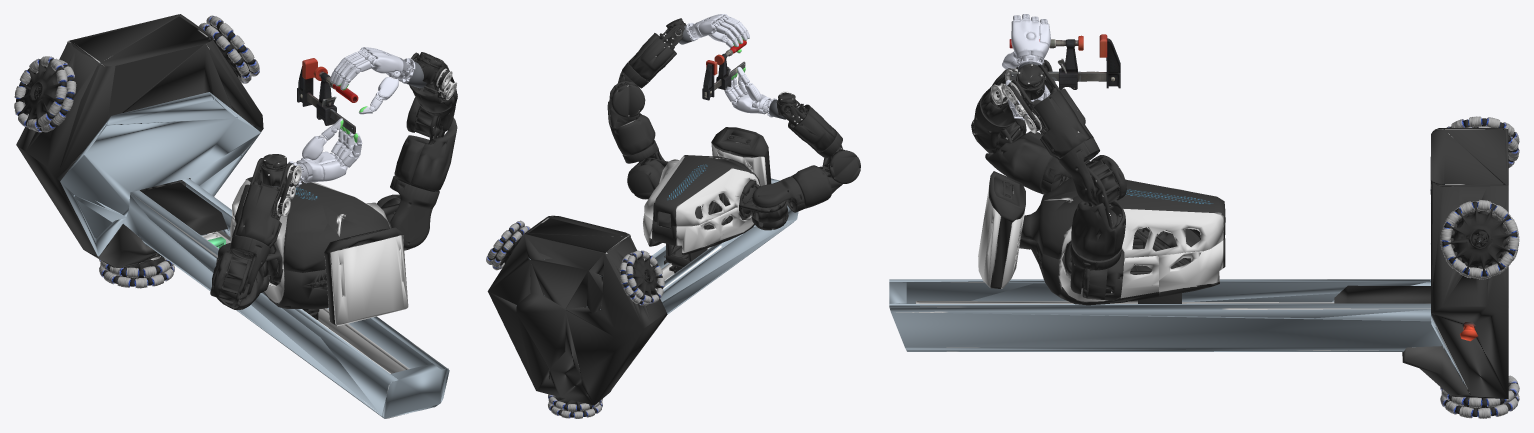
File: clamp-workcell.glb
The picture shows the model from 3 angles, left to right: view 1: azimuth 30°, elevation 25°; view 2: azimuth 150°, elevation 25°; view 3: azimuth 270°, elevation 25°; orthographic projection. The views are drawn at different scales.
Parts seen in each view (by area): view 1: base_link_visual_0_base_link.001, body_link_visual_0_body_link.001, wheel2_wheel_link_visual_0_wheel2_wheel_link.001, armR3_link_visual_0_armR3_link.001, armL5_link_visual_0_armL5_link.001, armR2_link_visual_0_armR2_link.001, armL3_link_visual_0_armL3_link.001, wheel1_wheel_link_visual_0_wheel1_wheel_link.001, wheel3_wheel_link_visual_0_wheel3_wheel_link.001, armR5_link_visual_0_armR5_link.001, armL4_link_visual_0_armL4_link.001, armL6_link_visual_0_armL6_link.001 (+7 smaller); view 2: base_link_visual_0_base_link.001, body_link_visual_0_body_link.001, armR3_link_visual_0_armR3_link.001, armL3_link_visual_0_armL3_link.001, wheel2_wheel_link_visual_0_wheel2_wheel_link.001, armL5_link_visual_0_armL5_link.001, armR5_link_visual_0_armR5_link.001, armL1_link_visual_0_armL1_link.001, armL2_link_visual_0_armL2_link.001, armR1_link_visual_0_armR1_link.001, wheel1_wheel_link_visual_0_wheel1_wheel_link.001, wheel3_wheel_link_visual_0_wheel3_wheel_link.001 (+5 smaller); view 3: base_link_visual_0_base_link.001, body_link_visual_0_body_link.001, wheel1_wheel_link_visual_0_wheel1_wheel_link.001, armR3_link_visual_0_armR3_link.001, armR5_link_visual_0_armR5_link.001, armL3_link_visual_0_armL3_link.001, wheel3_wheel_link_visual_0_wheel3_wheel_link.001, armR1_link_visual_0_armR1_link.001, armR4_link_visual_0_armR4_link.001, armL5_link_visual_0_armL5_link.001, right_hand_C_MC_visual_0_right_hand_C_MC_visual, armR6_link_visual_0_armR6_link.001 (+6 smaller).
Boxes of the visible parts, x1,y1,x2,y2 form: base_link_visual_0_base_link.001: (16,14,449,418); body_link_visual_0_body_link.001: (230,177,408,326); wheel2_wheel_link_visual_0_wheel2_wheel_link.001: (14,56,76,132); armR3_link_visual_0_armR3_link.001: (394,97,457,191); armL5_link_visual_0_armL5_link.001: (232,158,296,248); armR2_link_visual_0_armR2_link.001: (390,175,439,248); armL3_link_visual_0_armL3_link.001: (210,252,263,310); wheel1_wheel_link_visual_0_wheel1_wheel_link.001: (199,15,259,83); wheel3_wheel_link_visual_0_wheel3_wheel_link.001: (99,258,174,288); armR5_link_visual_0_armR5_link.001: (409,52,457,112); armL4_link_visual_0_armL4_link.001: (229,235,270,295); armL6_link_visual_0_armL6_link.001: (260,154,301,185); base_link_visual_0_base_link.001: (487,178,798,405); body_link_visual_0_body_link.001: (643,127,771,254); armR3_link_visual_0_armR3_link.001: (607,81,655,155); armL3_link_visual_0_armL3_link.001: (791,149,860,208); wheel2_wheel_link_visual_0_wheel2_wheel_link.001: (619,250,664,305); armL5_link_visual_0_armL5_link.001: (780,92,836,152); armR5_link_visual_0_armR5_link.001: (628,25,684,81); armL1_link_visual_0_armL1_link.001: (725,180,788,230); armL2_link_visual_0_armL2_link.001: (752,176,804,212); armR1_link_visual_0_armR1_link.001: (627,157,668,199); wheel1_wheel_link_visual_0_wheel1_wheel_link.001: (486,220,530,270); wheel3_wheel_link_visual_0_wheel3_wheel_link.001: (548,394,602,418); base_link_visual_0_base_link.001: (889,128,1508,398); body_link_visual_0_body_link.001: (978,171,1225,305); wheel1_wheel_link_visual_0_wheel1_wheel_link.001: (1440,200,1519,279); armR3_link_visual_0_armR3_link.001: (1071,155,1126,260); armR5_link_visual_0_armR5_link.001: (1007,64,1093,160); armL3_link_visual_0_armL3_link.001: (971,118,1052,194); wheel3_wheel_link_visual_0_wheel3_wheel_link.001: (1440,375,1519,418); armR1_link_visual_0_armR1_link.001: (1064,241,1124,300); armR4_link_visual_0_armR4_link.001: (1059,138,1099,202); armL5_link_visual_0_armL5_link.001: (981,59,1052,126); right_hand_C_MC_visual_0_right_hand_C_MC_visual: (1011,19,1048,64); armR6_link_visual_0_armR6_link.001: (1003,64,1045,103).
Size of the model in its own units: 0.8022 by 0.9859 by 1.43.
Materials: 88 (19 with a texture image).
